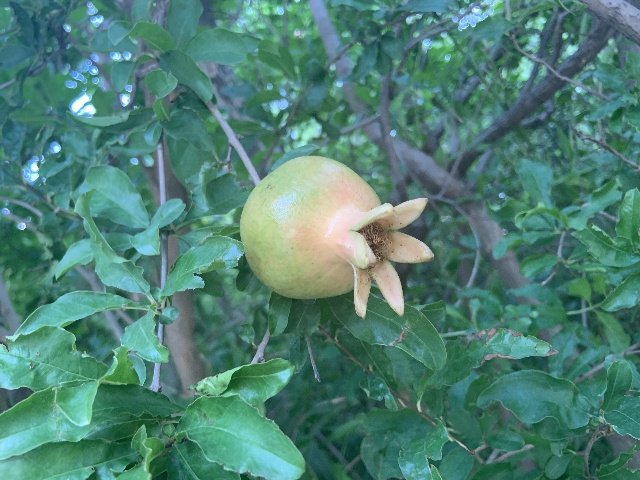mid-growth: (239, 155, 437, 319)
